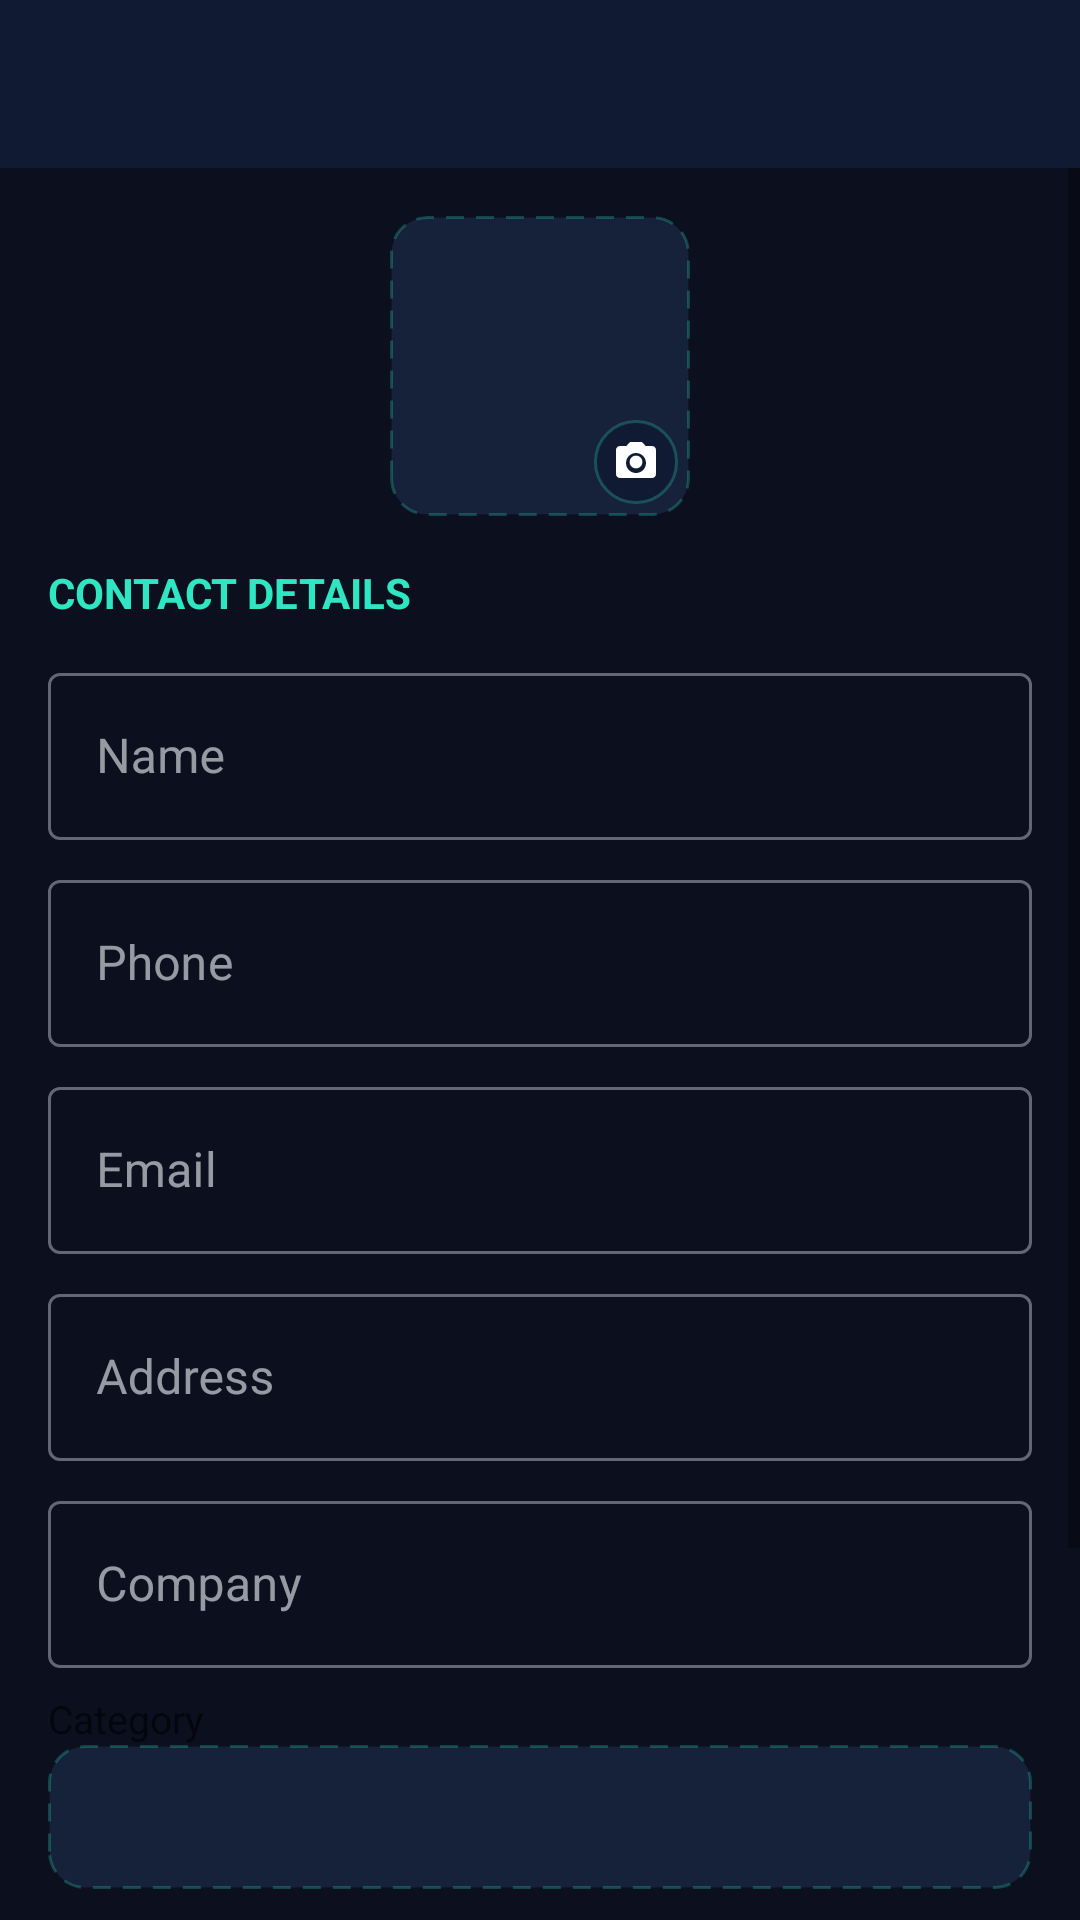

Screen size 1080*1920. Icon name, then its center in pixels as point (x, y):
Change photo: point (636, 462)
